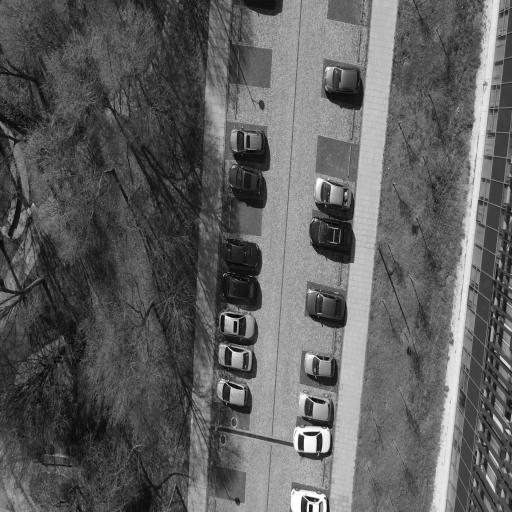car: (310, 218, 352, 252), (306, 287, 345, 318), (314, 177, 351, 207), (223, 238, 259, 267), (294, 425, 331, 453), (299, 390, 332, 420), (229, 163, 262, 193), (222, 272, 257, 300), (219, 310, 255, 337), (218, 342, 252, 370), (324, 65, 359, 92), (230, 128, 264, 154), (217, 376, 247, 405), (291, 487, 327, 511), (304, 351, 334, 376)
